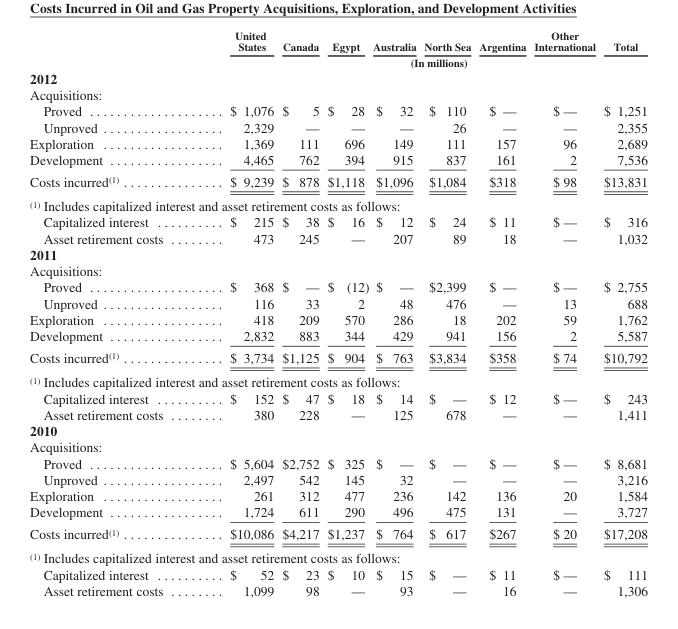table: (29, 29, 646, 597)
table column: (29, 29, 195, 597), (195, 29, 277, 597), (529, 29, 598, 597), (419, 29, 474, 597), (474, 29, 529, 597), (370, 29, 419, 597), (322, 29, 370, 597), (598, 29, 646, 597), (277, 29, 322, 597)
table column header: (29, 29, 646, 69)
table projected row header: (29, 193, 646, 213), (29, 369, 646, 389), (29, 545, 646, 565), (29, 69, 646, 86), (29, 245, 646, 262), (29, 86, 646, 102), (29, 262, 646, 278), (29, 422, 646, 438), (29, 438, 646, 454)
table row: (29, 29, 646, 54), (29, 170, 646, 193), (29, 346, 646, 369), (29, 522, 646, 545), (29, 193, 646, 213), (29, 369, 646, 389), (29, 545, 646, 565), (29, 151, 646, 170), (29, 327, 646, 346), (29, 503, 646, 522), (29, 69, 646, 86), (29, 118, 646, 135), (29, 245, 646, 262), (29, 294, 646, 311), (29, 389, 646, 406), (29, 454, 646, 471), (29, 565, 646, 582), (29, 86, 646, 102), (29, 102, 646, 118), (29, 135, 646, 151), (29, 213, 646, 229), (29, 229, 646, 245), (29, 262, 646, 278), (29, 278, 646, 294), (29, 311, 646, 327), (29, 406, 646, 422), (29, 422, 646, 438), (29, 438, 646, 454), (29, 471, 646, 487), (29, 487, 646, 503), (29, 54, 646, 69), (29, 582, 646, 597)
table spanning cell: (195, 54, 646, 69)
